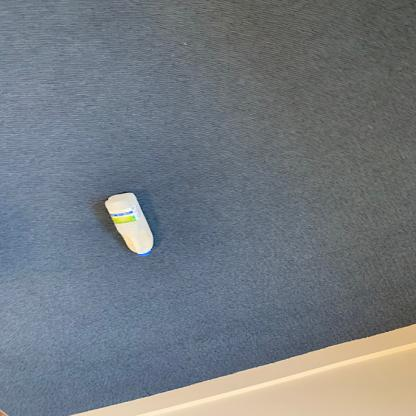trash: (106, 191, 158, 258)
